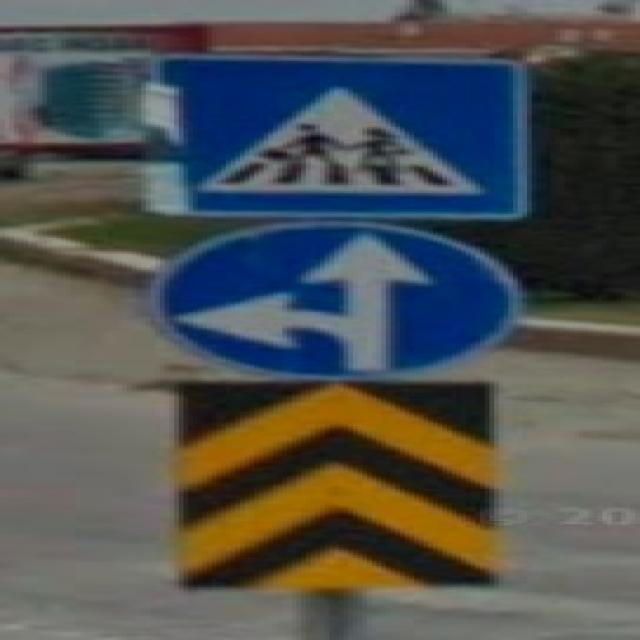Straight or Left: (145, 221, 517, 377)
